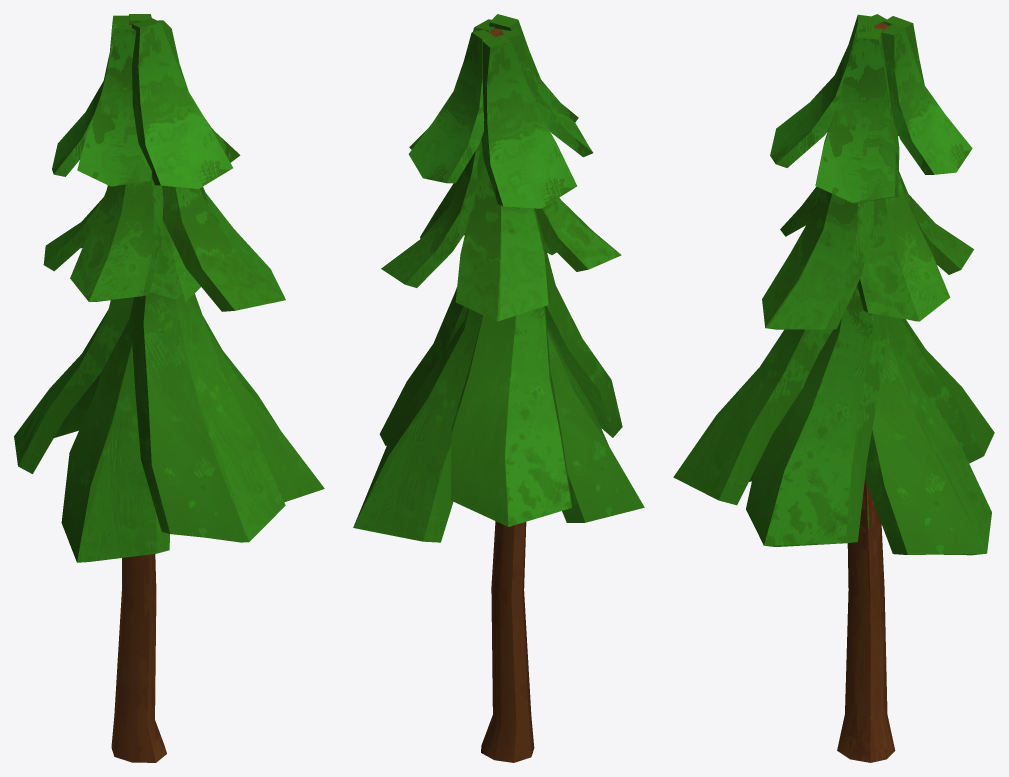
File: tree_001.fbx
3 renders of one model, left to right at view 1: azimuth 30°, elevation 25°; view 2: azimuth 150°, elevation 25°; view 3: azimuth 270°, elevation 25°, orthographic.
Parts seen in each view (by area): view 1: tree_001; view 2: tree_001; view 3: tree_001.
Boxes of the visible parts, box(x1,y1,x2,y2) form: tree_001: box(14, 14, 324, 762); tree_001: box(353, 14, 644, 762); tree_001: box(673, 14, 994, 762).
Bounding box in the file's own units: 167 × 486 × 193.
Materials: 1 (1 with a texture image).
